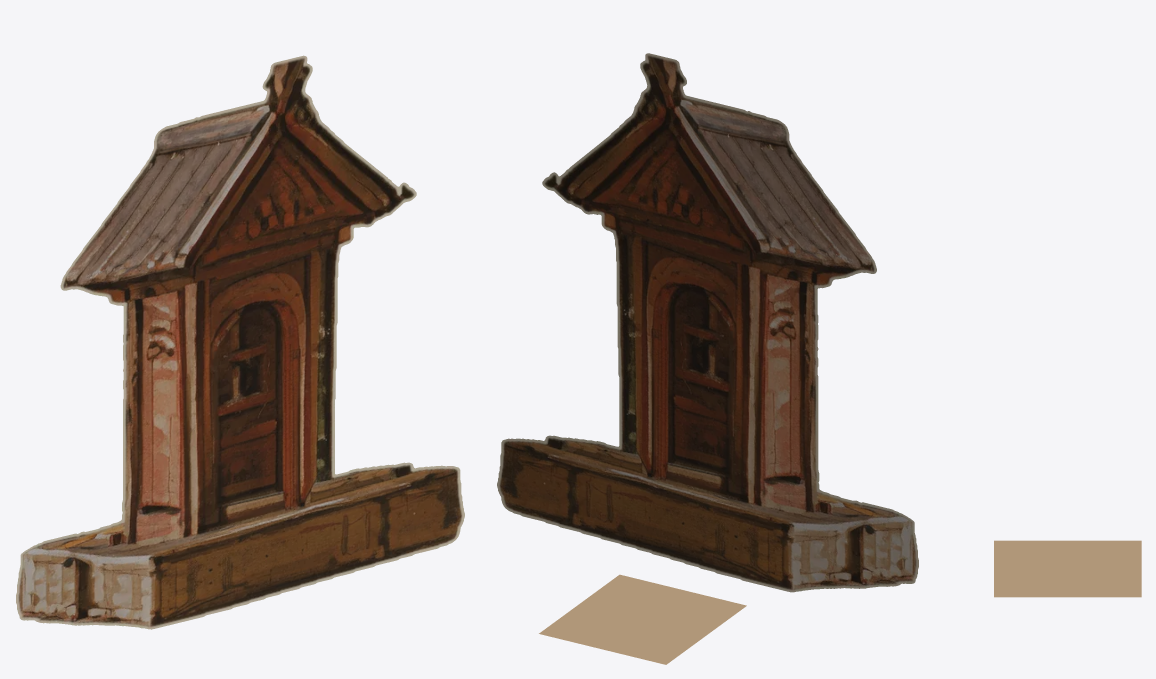
The model's file is toad-prop-spirit-house.glb.
The picture shows the model from 3 angles, left to right: view 1: azimuth 30°, elevation 25°; view 2: azimuth 150°, elevation 25°; view 3: azimuth 270°, elevation 25°; orthographic projection. The views are drawn at different scales.
Parts seen in each view (by area): view 1: spirit-house; view 2: spirit-house; view 3: spirit-house.
Part boxes in pixels (x1,y1,x2,y2): spirit-house: [16, 55, 464, 629]; spirit-house: [497, 53, 918, 664]; spirit-house: [994, 540, 1141, 597].
Bounding box in the file's own units: 0.1 × 0.1142 × 0.043.
Materials: 2 (1 with a texture image).
